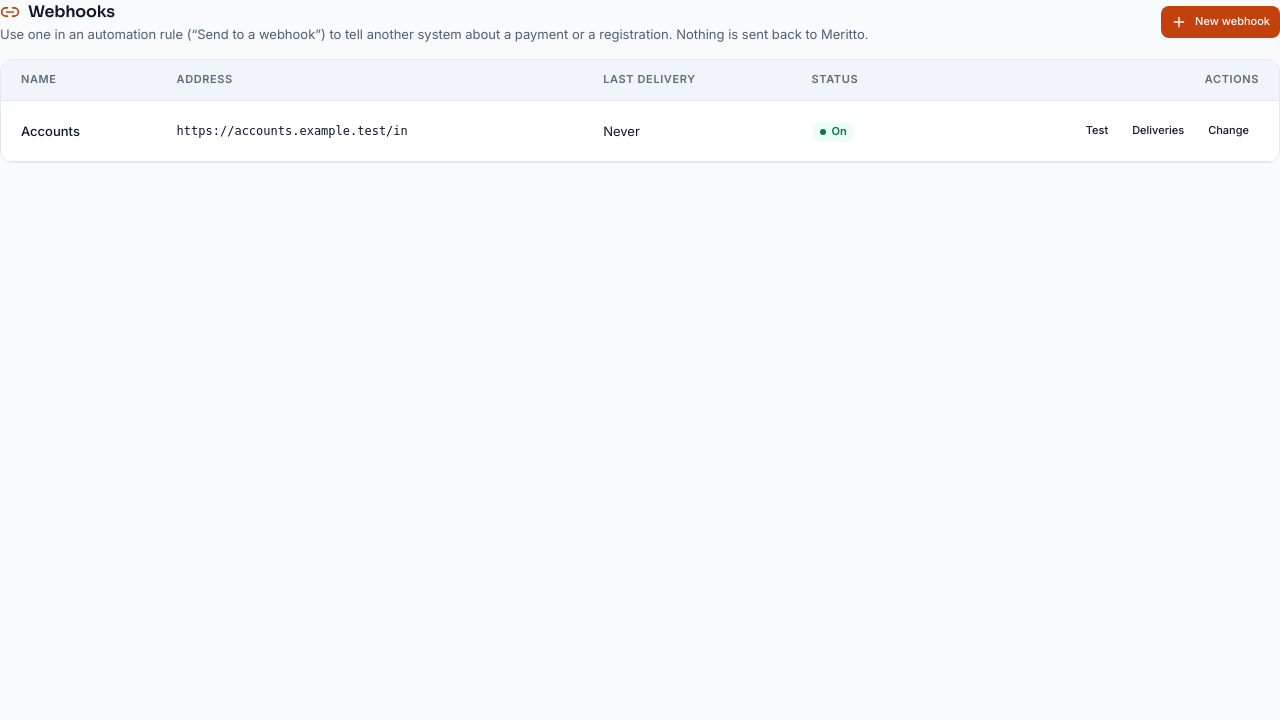
Test: WebhooksTab › never shows saved header values when changing a webhook
Click the button with aria-label "Change Accounts" at (1229, 131), box [1198,115,1259,147]
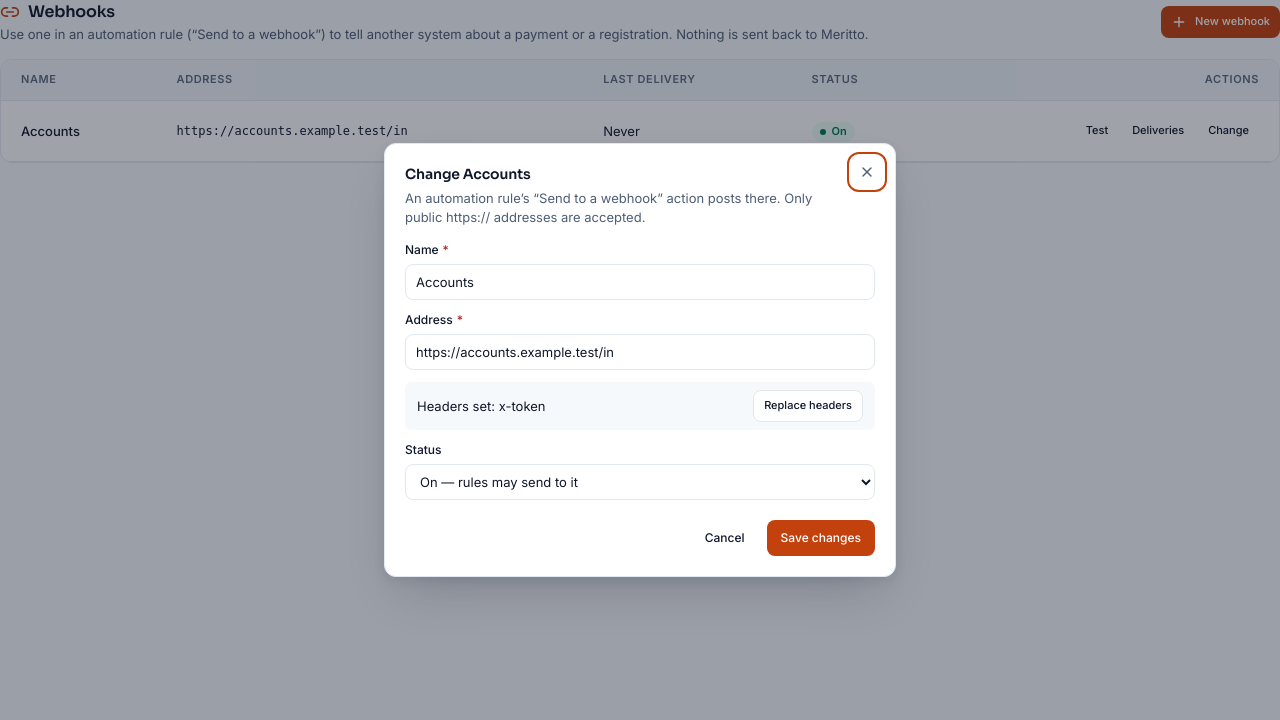
Now the text "Headers set: x-token" is shown, box [417,397,546,415]
